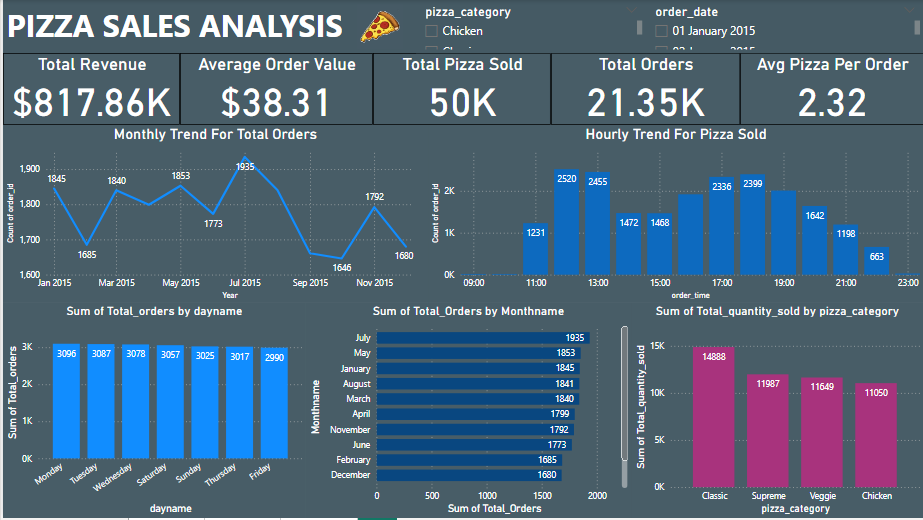

The dashboard page shown, as its layout file describes it:
{"tool":"powerbi","page":{"name":"Page 1","canvas":[1280,720],"ordinal":0},"visuals":[{"type":"textbox","box":[0,0,574.1,73.7],"z":0},{"type":"card","title":"Total Revenue","fields":{"Values":["Sum(unified_mentor pizza_sales.total_price)"]},"box":[0,73.7,246,100.1],"z":1000},{"type":"card","title":"Average Order Value","fields":{"Values":["unified_mentor pizza_sales.Average order value"]},"box":[246,73.7,268.3,100.1],"z":2000},{"type":"card","title":"Total Pizza Sold","fields":{"Values":["Sum(unified_mentor pizza_sales.quantity)"]},"box":[514.3,73.7,247.4,100.1],"z":3000},{"type":"card","title":"Total Orders","fields":{"Values":["Count(unified_mentor pizza_sales.order_id)"]},"box":[761.7,73.7,262.7,100.1],"z":4000},{"type":"card","title":"Avg Pizza Per Order","fields":{"Values":["unified_mentor pizza_sales.Avg_pizza_per_order"]},"box":[1024.4,73.7,255.8,100.1],"z":5000},{"type":"columnChart","fields":{"Category":["daily_trends.dayname"],"Y":["Sum(daily_trends.Total_orders)"]},"box":[0,421.2,421.2,298.8],"z":6000},{"type":"barChart","fields":{"Category":["monthly_trend.Monthname"],"Y":["Sum(monthly_trend.Total_Orders)"]},"box":[421.2,421.2,451.7,298.8],"z":7000},{"type":"columnChart","fields":{"Y":["Sum(pizza_category_sales.Total_quantity_sold)"],"Category":["pizza_category_sales.pizza_category"]},"box":[872.9,421.2,407.3,298.8],"z":8000},{"type":"slicer","fields":{"Values":["pizza_sales.pizza_category"]},"box":[574.1,0,319.7,73.7],"z":9000},{"type":"slicer","fields":{"Values":["pizza_sales.order_date"]},"box":[893.7,0,386.4,73.7],"z":10000},{"type":"lineChart","title":"Monthly Trend For Total Orders","fields":{"Y":["Count(pizza_sales.order_id)"],"Category":["pizza_sales.order_date.Variation.Date Hierarchy.Year","pizza_sales.order_date.Variation.Date Hierarchy.Quarter","pizza_sales.order_date.Variation.Date Hierarchy.Month","pizza_sales.order_date.Variation.Date Hierarchy.Day"]},"box":[0,173.7,590.7,247.4],"z":11000},{"type":"columnChart","title":"Hourly Trend For Pizza Sold","fields":{"Category":["pizza_sales.order_time"],"Y":["Count(pizza_sales.order_id)"]},"box":[590.7,173.7,689.4,247.4],"z":12000},{"type":"image","box":[474,0,100.1,73.7],"z":13000}]}

Visuals, with their boxes in screenshot pixels (x1, y1, x2, y2), scaled from the page's 1280x720 canvas onto the 923x520 screenshot:
textbox: <box>0,0,414,53</box>
"Total Revenue" card: <box>0,53,177,126</box>
"Average Order Value" card: <box>177,53,371,126</box>
"Total Pizza Sold" card: <box>371,53,549,126</box>
"Total Orders" card: <box>549,53,739,126</box>
"Avg Pizza Per Order" card: <box>739,53,922,126</box>
columnChart - daily_trends.dayname x Sum(daily_trends.Total_orders): <box>0,304,304,519</box>
barChart - monthly_trend.Monthname x Sum(monthly_trend.Total_Orders): <box>304,304,629,519</box>
columnChart - Sum(pizza_category_sales.Total_quantity_sold) x pizza_category_sales.pizza_category: <box>629,304,922,519</box>
slicer - pizza_sales.pizza_category: <box>414,0,645,53</box>
slicer - pizza_sales.order_date: <box>644,0,922,53</box>
"Monthly Trend For Total Orders" lineChart: <box>0,125,426,304</box>
"Hourly Trend For Pizza Sold" columnChart: <box>426,125,922,304</box>
image: <box>342,0,414,53</box>
